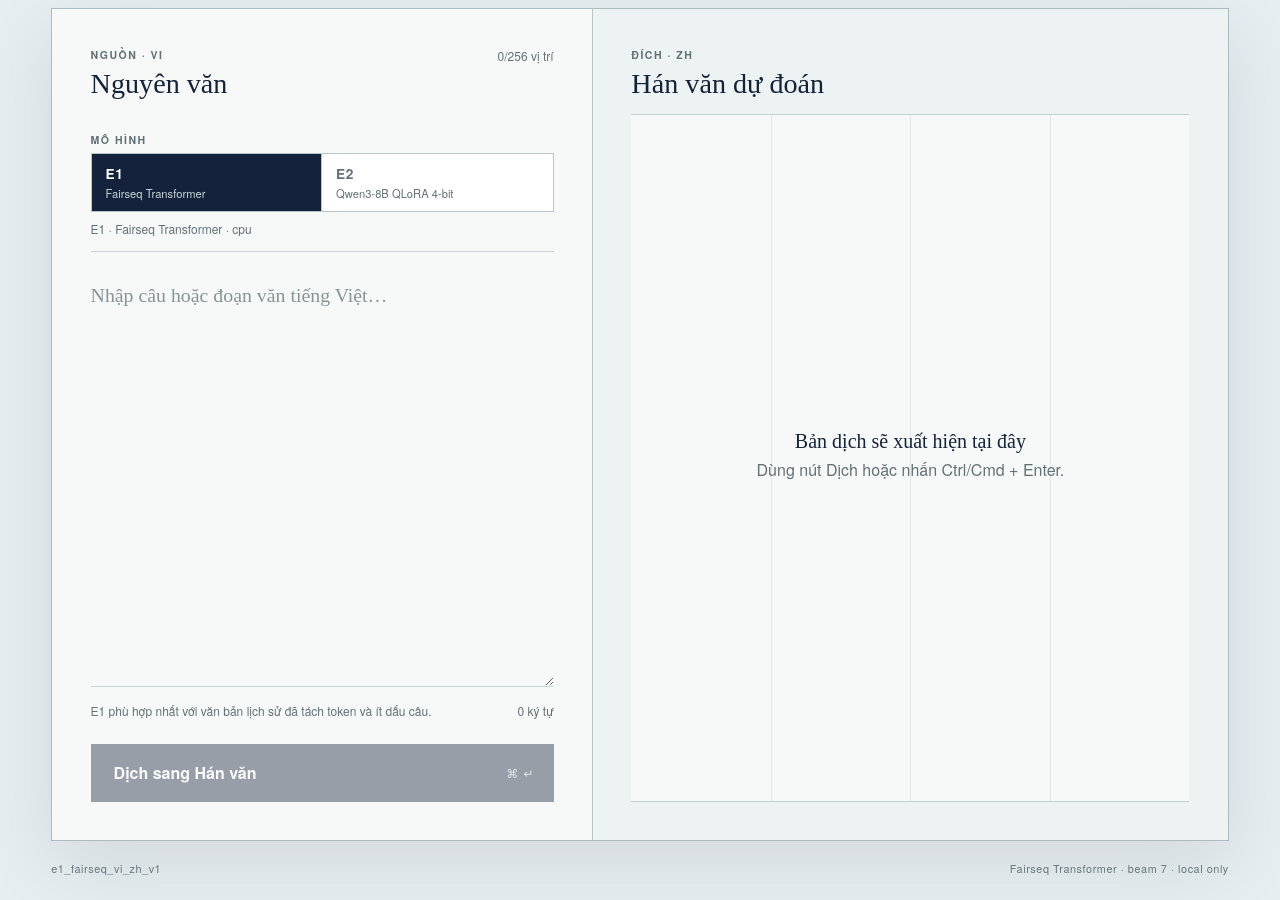
Test: E1/E2 MT interface › switches the counter to the estimated E2 token budget
(page scrolled)
Type "Vua sai sứ" into the text box named "Văn bản tiếng Việt cần dịch" at (322, 469), box [91, 251, 554, 687]
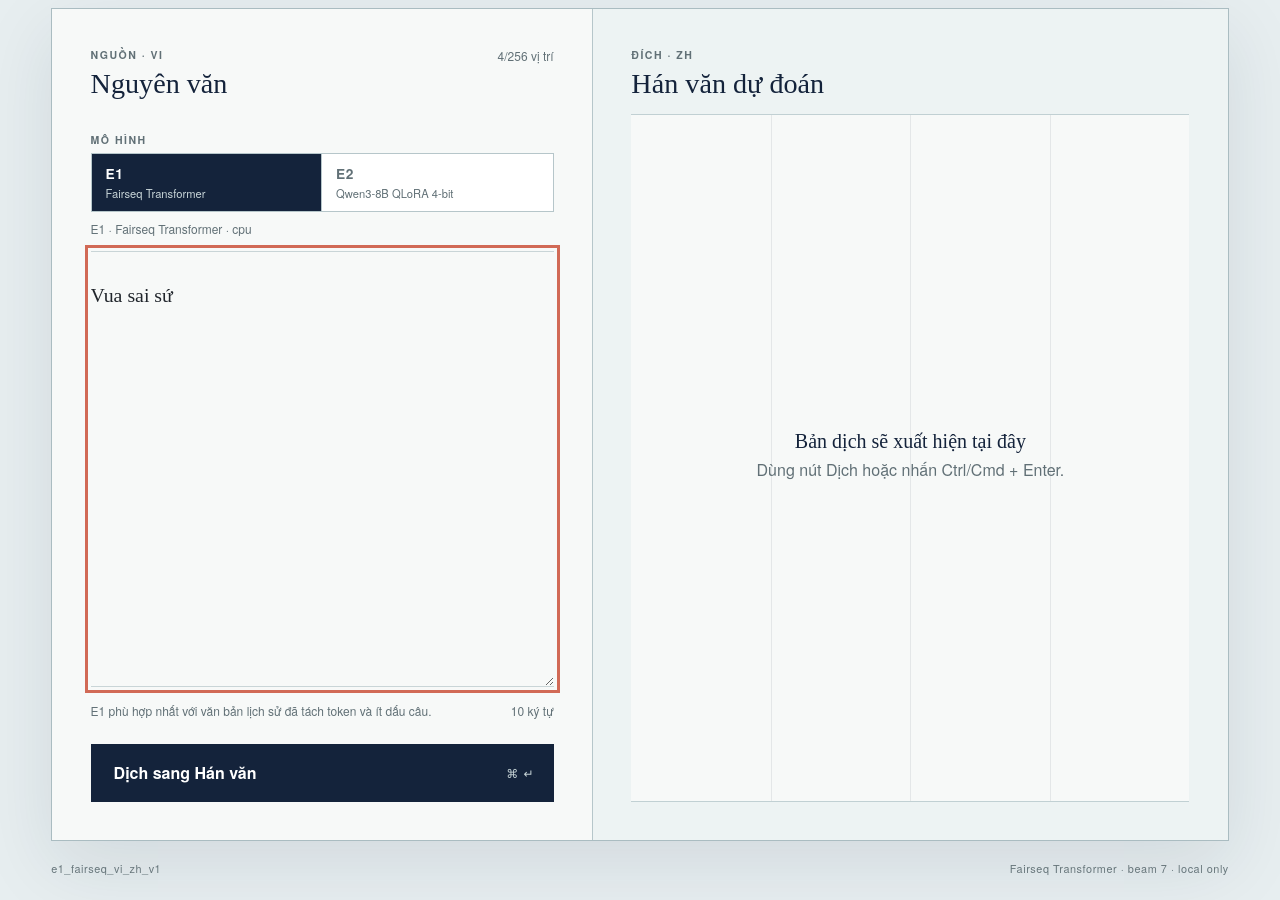
Now the text "4/256 vị trí" is shown, box [498, 47, 554, 64]
Click the radio button labelled "E2 Qwen3-8B QLoRA 4-bit" at (437, 183), box [322, 154, 553, 211]
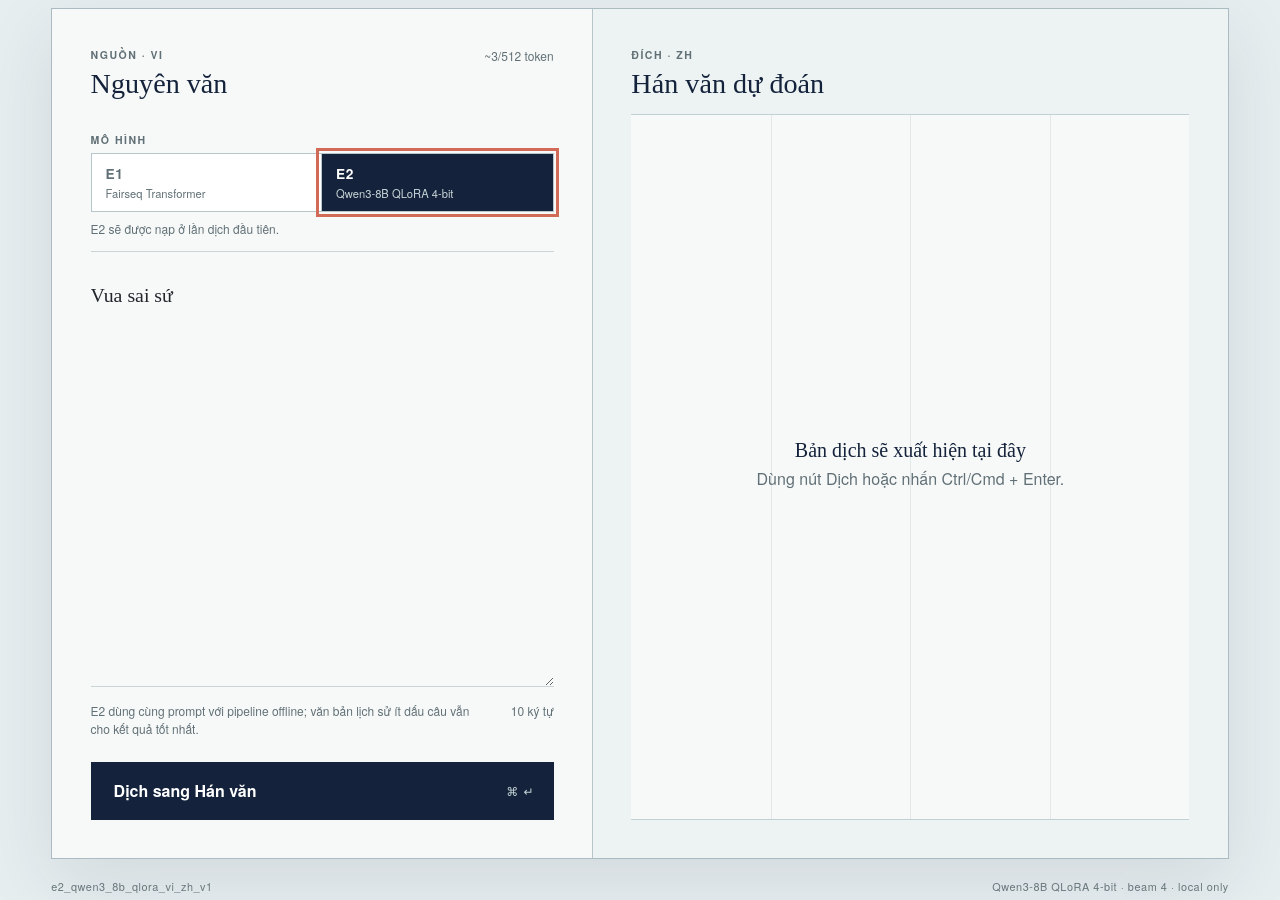
Now the text "~3/512 token" is shown, box [484, 47, 554, 64]
